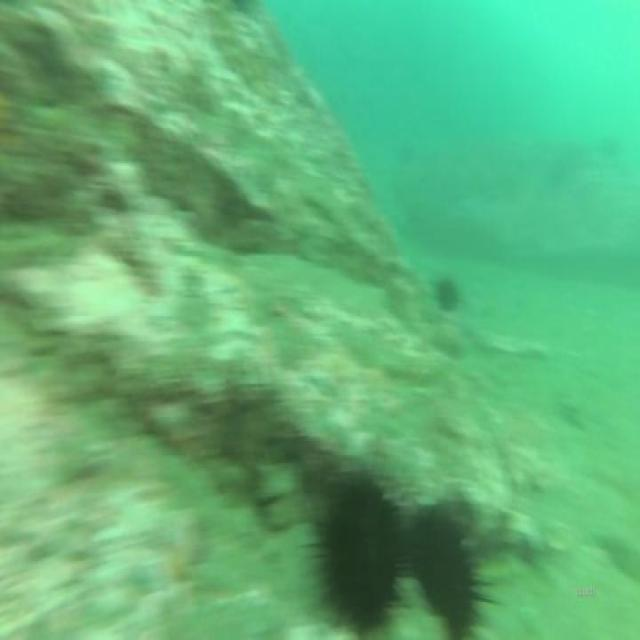echinus: (313, 462, 403, 638), (403, 498, 480, 638)
